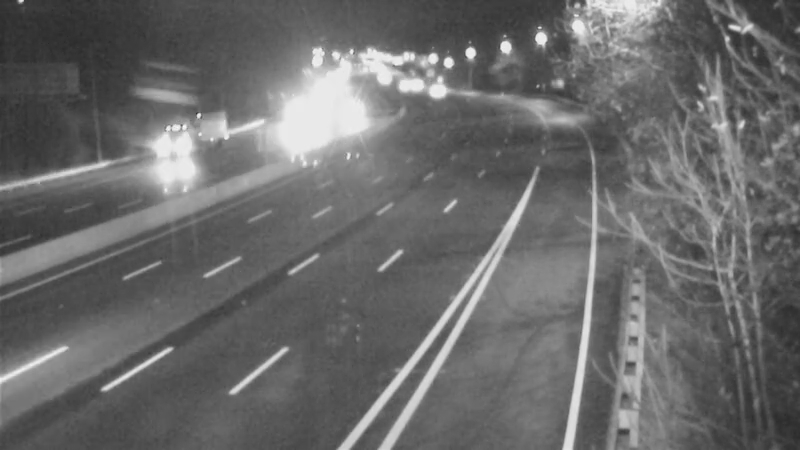vehicle: (413, 65, 463, 115), (157, 120, 207, 170)
